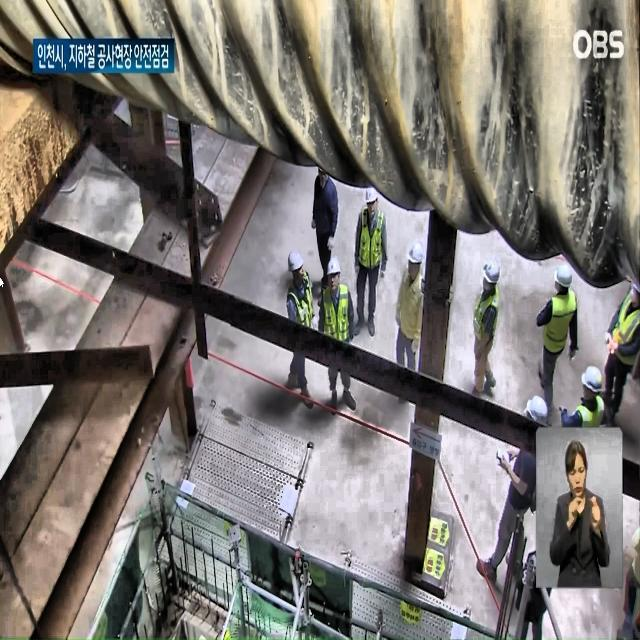safety_helmet: (582, 364, 605, 394), (526, 396, 548, 426), (482, 259, 500, 288), (553, 263, 573, 289), (287, 249, 305, 276), (406, 240, 424, 264), (326, 258, 341, 278), (363, 186, 379, 204)
safety_jacket: (543, 296, 577, 355), (612, 299, 640, 367), (356, 208, 386, 269), (287, 274, 314, 331), (324, 286, 350, 342), (473, 290, 498, 348), (573, 396, 607, 426)
